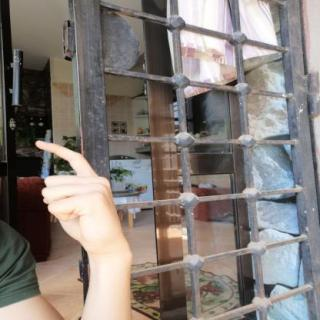RAA: (22, 135, 132, 258)
